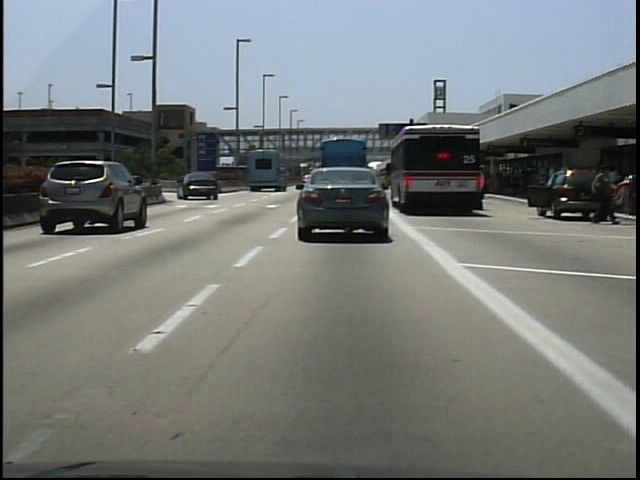person: (589, 161, 617, 228)
